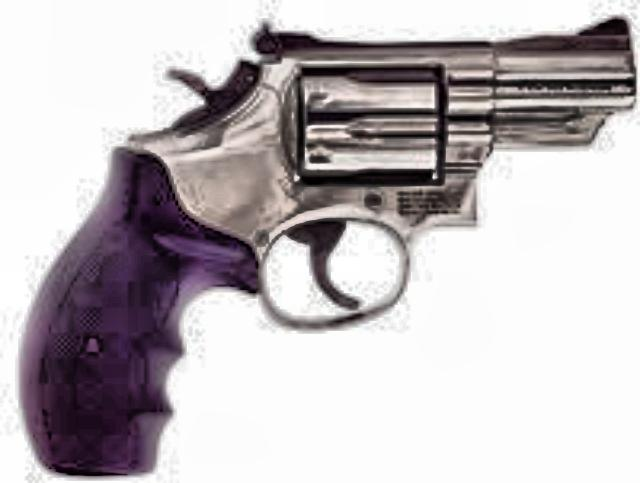pistol: (16, 13, 636, 470)
